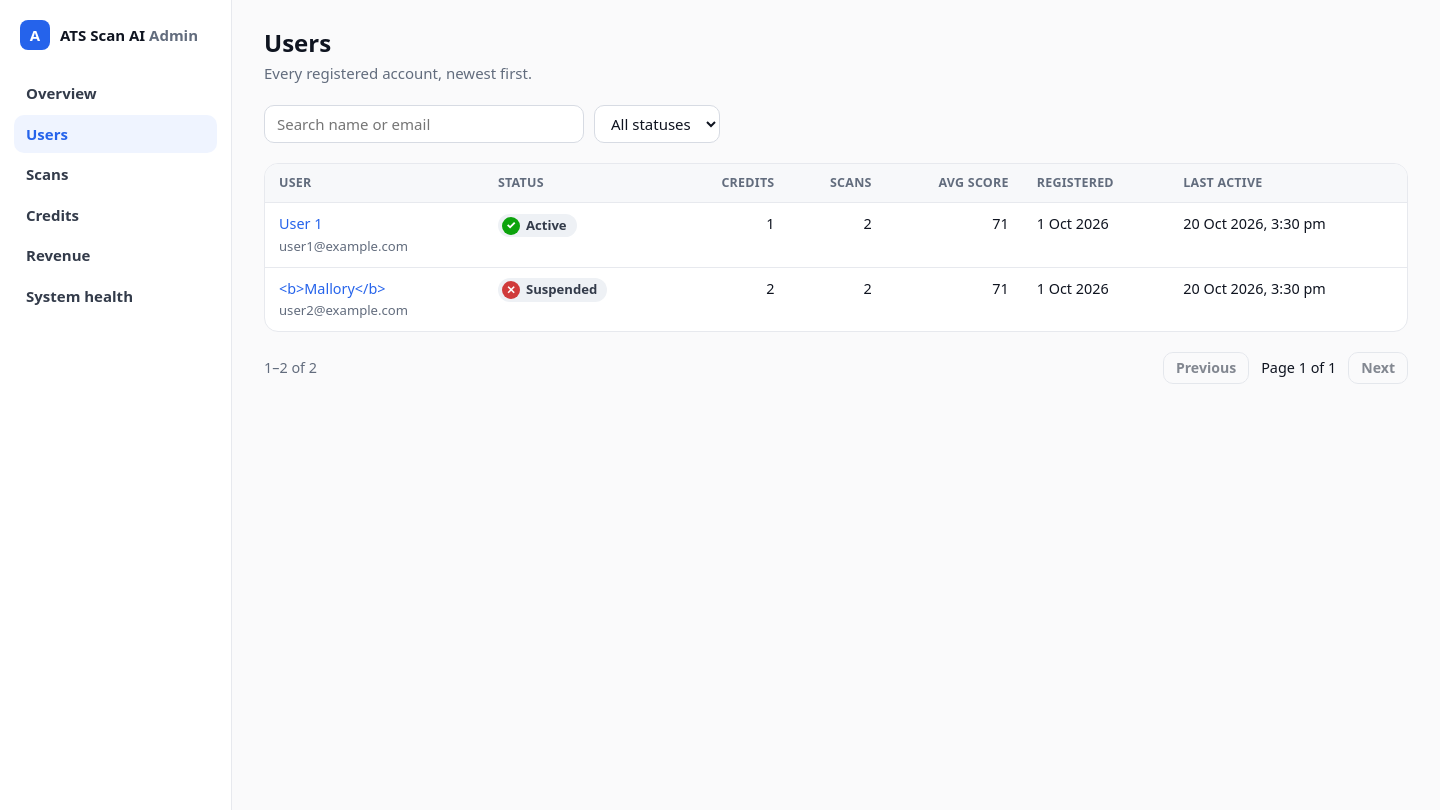
Test case: Users page › lists users and searches by name or email
expect the text "user1@example.com" is shown: met, box [279, 237, 408, 255]
expect the text "<b>Mallory</b>" is shown: met, box [279, 278, 386, 298]
Type "user2" into the search field. click: [424, 124]
box: [264, 104, 584, 142]
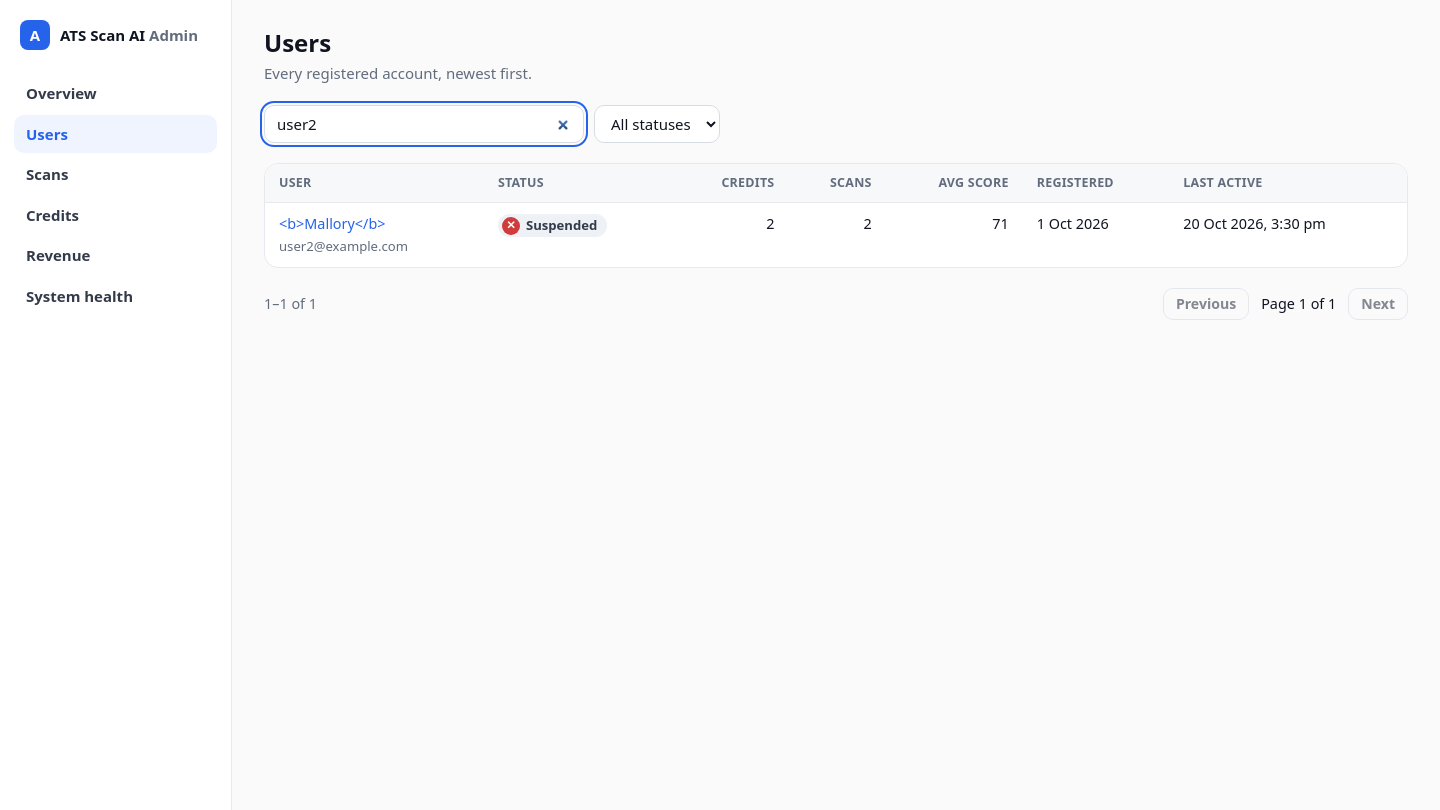
expect the link "user1@example.com" is gone: met
